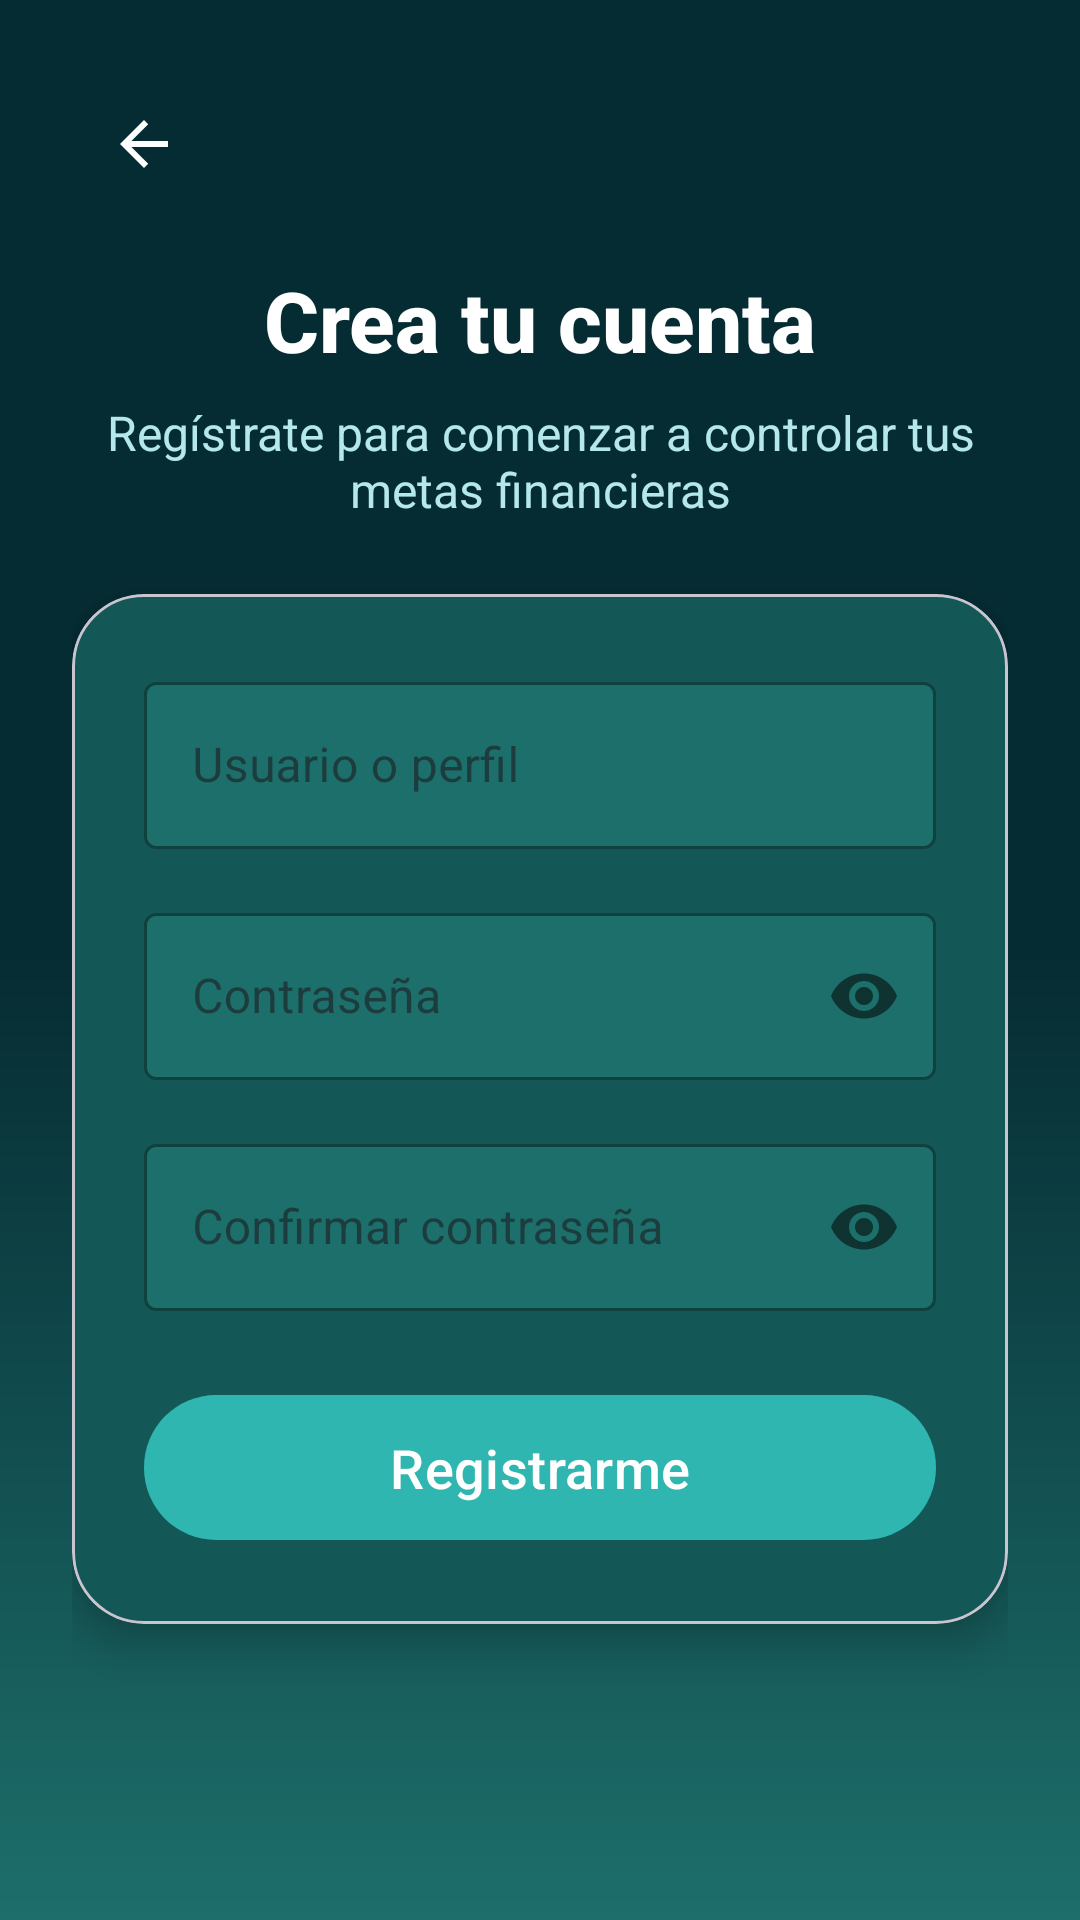

Named icons in this screenshot (1080×1920) and their bounding boxes, (x1, y1, x2, y2):
Volver: (120, 120, 168, 168)
